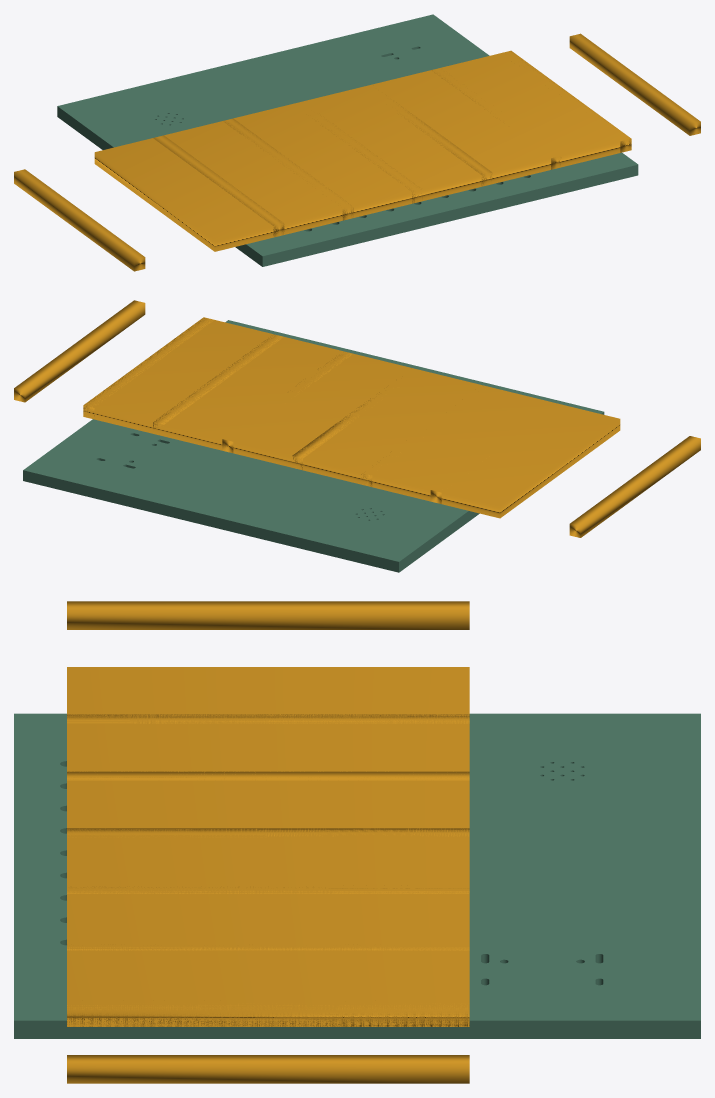
Rendered from board.glb.
3 renders of one model, top to bottom at view 1: azimuth 30°, elevation 25°; view 2: azimuth 150°, elevation 25°; view 3: azimuth 270°, elevation 25°, orthographic. The views are drawn at different scales.
Parts seen in each view (by area): view 1: =>[0:1:1:3], =>[0:1:1:4]; view 2: =>[0:1:1:3], =>[0:1:1:4]; view 3: =>[0:1:1:3], =>[0:1:1:4].
Part boxes in pixels (x1,y1,x2,y2): =>[0:1:1:3]: [14, 33, 700, 271]; =>[0:1:1:4]: [57, 14, 638, 266]; =>[0:1:1:3]: [14, 300, 700, 537]; =>[0:1:1:4]: [23, 320, 604, 572]; =>[0:1:1:3]: [67, 601, 469, 1083]; =>[0:1:1:4]: [14, 713, 700, 1038].
Size of the model in its own units: 0.0829 by 0.00322 by 0.052.
